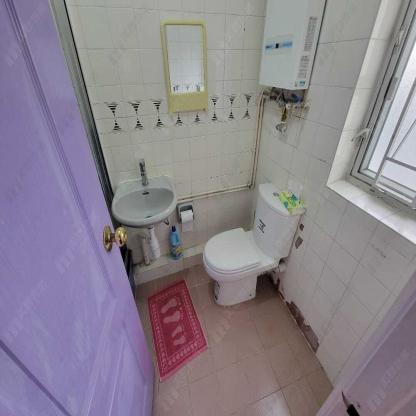Toilet: (201, 181, 306, 309)
Toilet Sink: (110, 175, 178, 229)
Water Heater: (257, 0, 326, 91)
